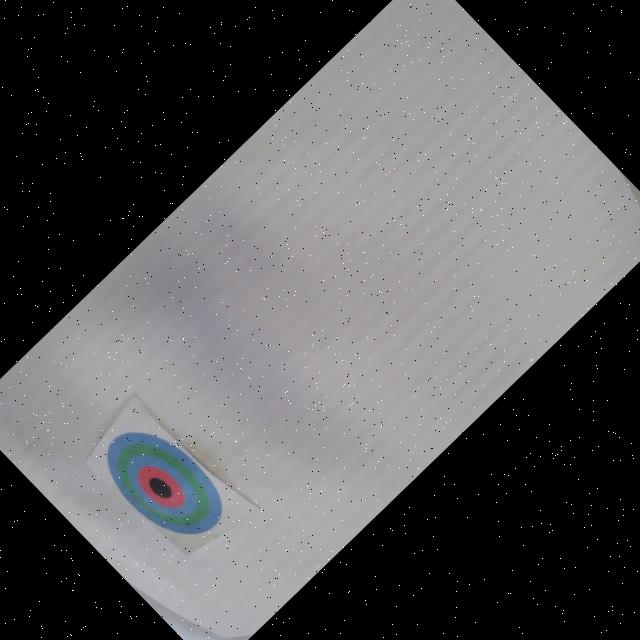COGNITIVE: (90, 408, 240, 558)
